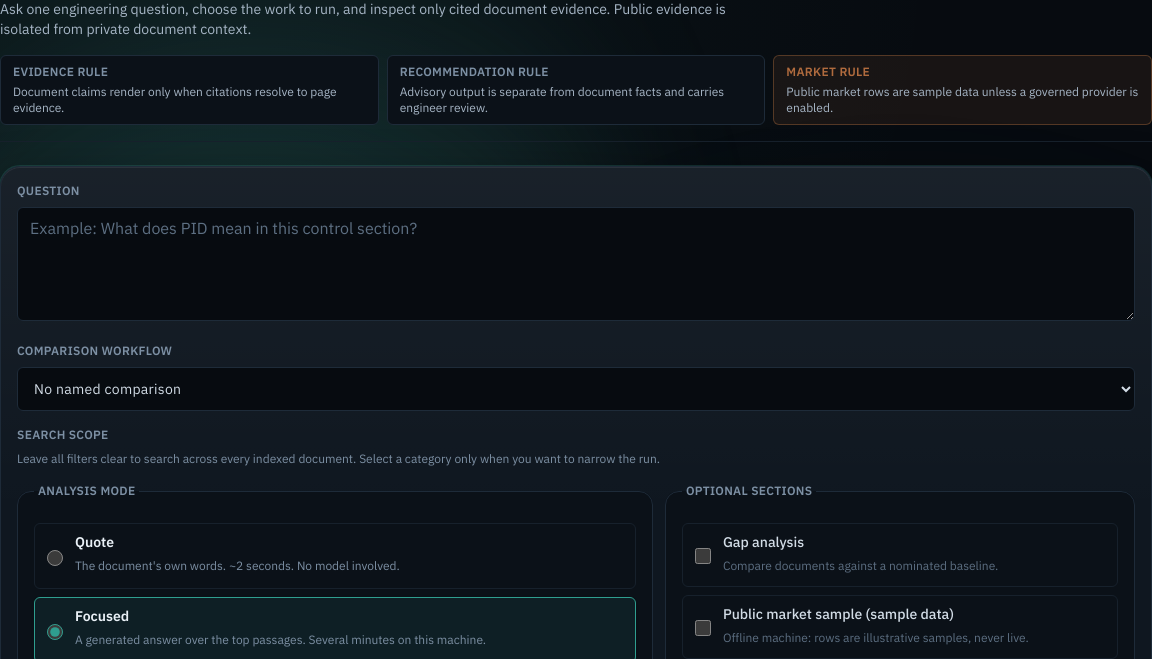
Test: Quote mode: no section heading is rendered above empty content › every section on screen after a Quote run has content under its heading
The width and height of the screenshot is (1152, 659).
Click the radio button labelled "Quote" at (55, 558), box [47,536,63,580]
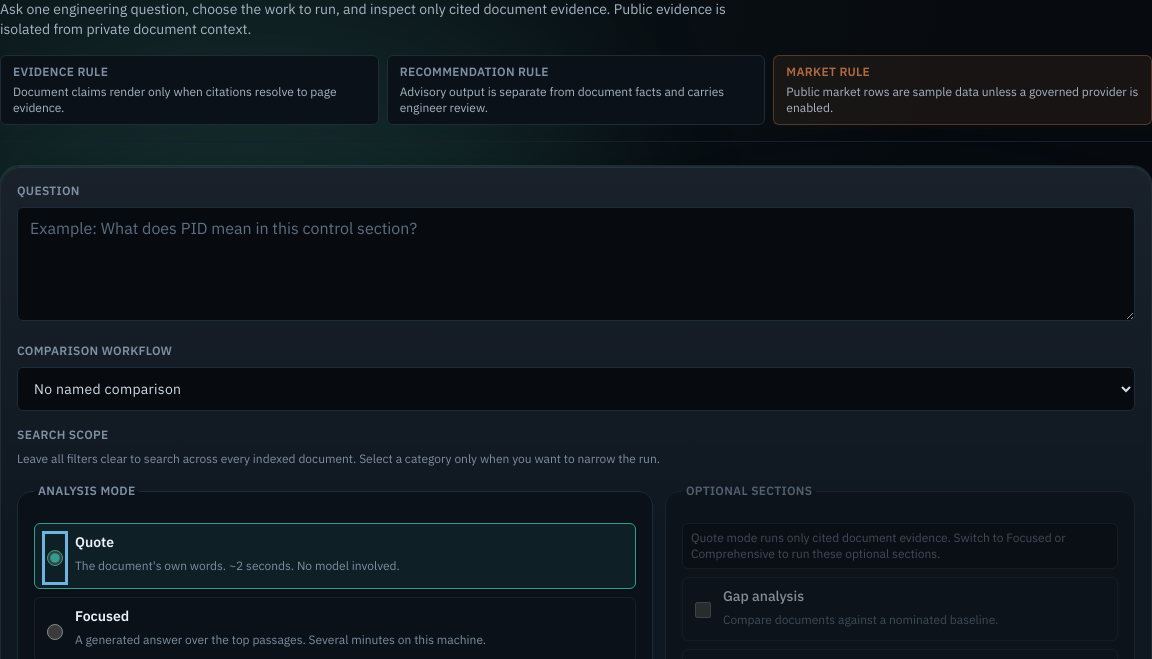
Type "what is the pressure floor" into the text box labelled "Question" at (576, 264), box [17,207,1135,321]
(page scrolled)
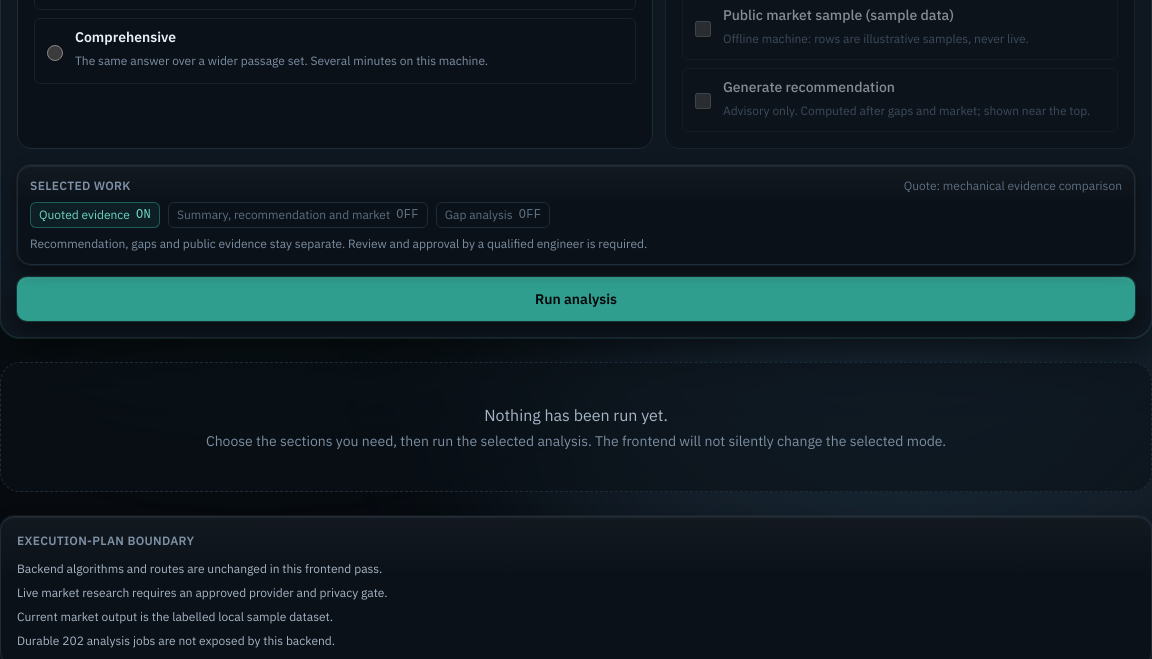
Click the button "Run analysis" at (576, 299), box [17,277,1135,321]
(page scrolled)
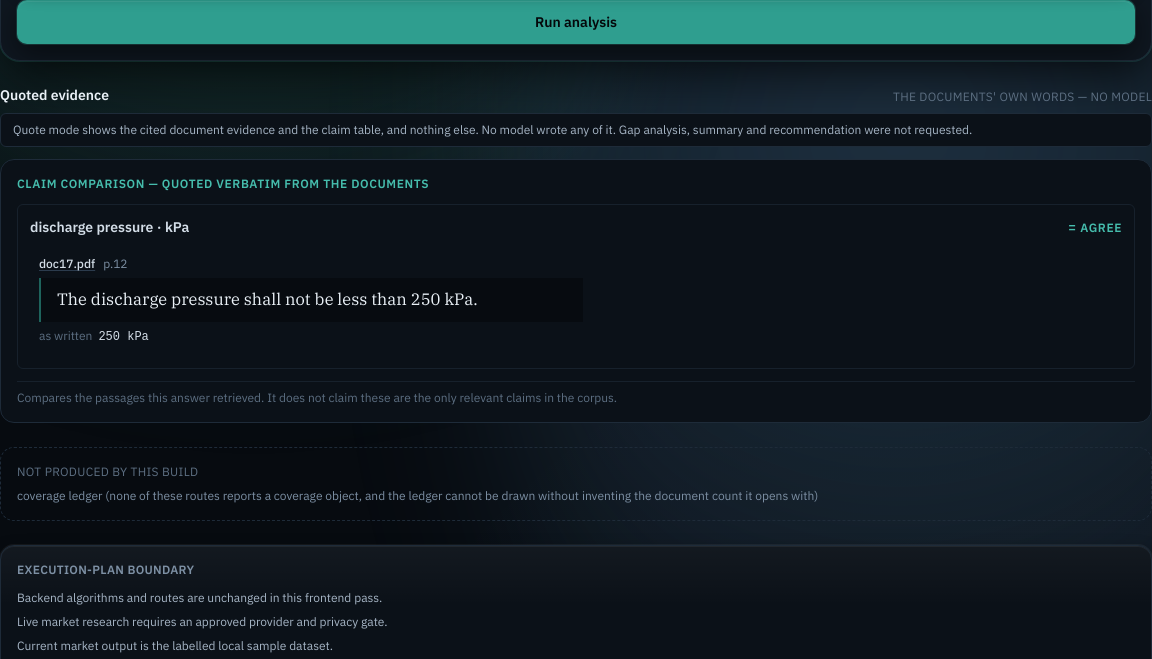
Expected: the text "The discharge pressure shall not be less than 250 kPa." is shown, [39,278,583,322]
